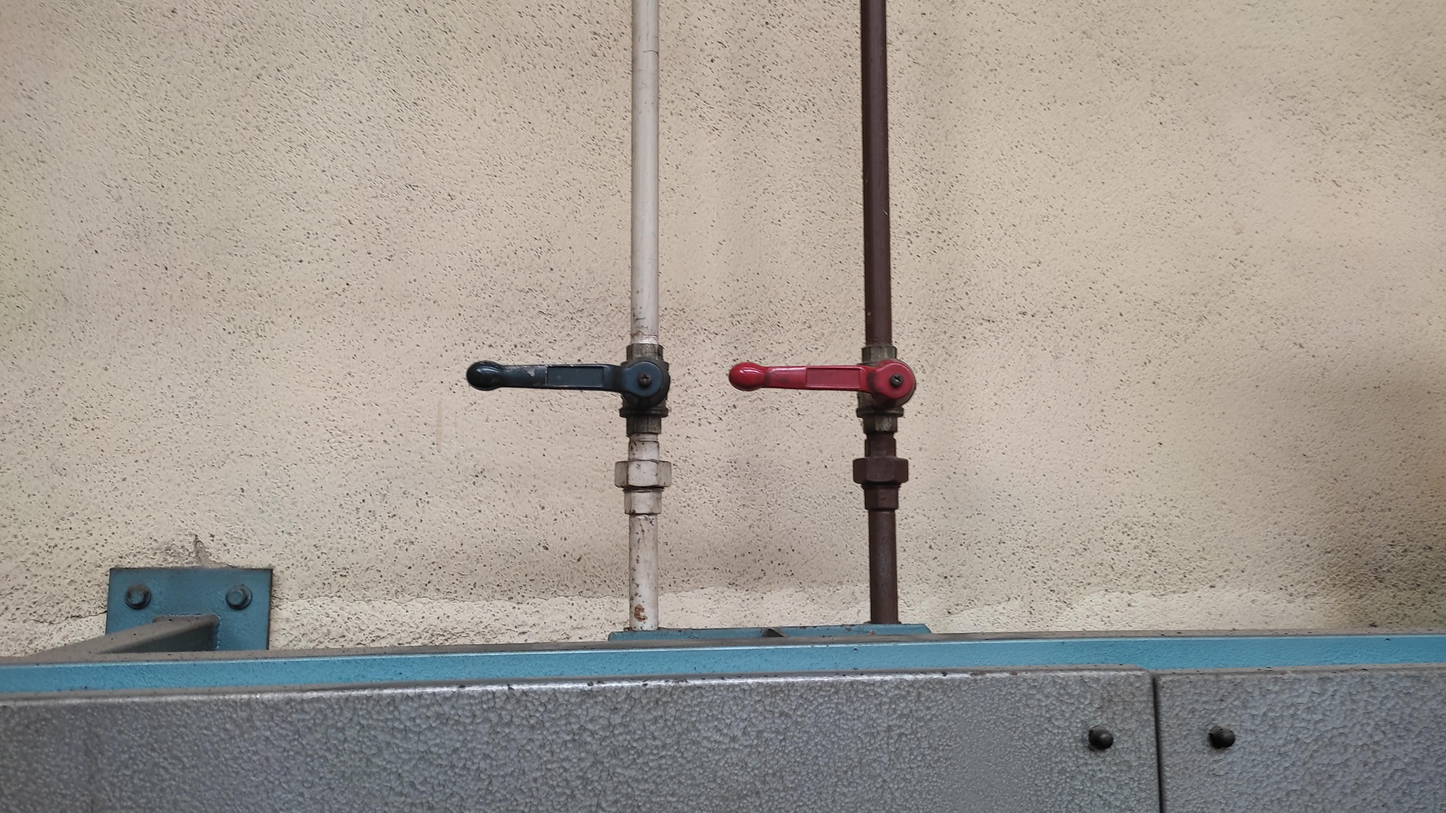closed valve: (460, 337, 672, 434), (725, 337, 923, 437)
